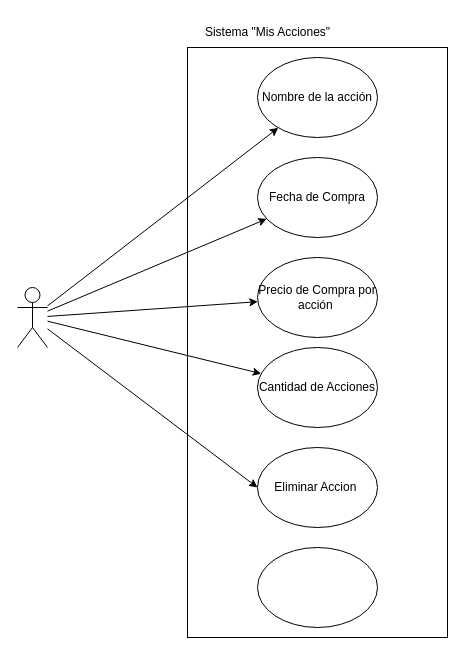
Image size: 465x655. Some labels were removed from this diagram. The shapes that lost their labels are listed below. From the top down, each one's centre as x and y in pixels, then its label:
At pixel 32 317: "Actor".
At pixel 317 587: "Costo Total de Compra".
